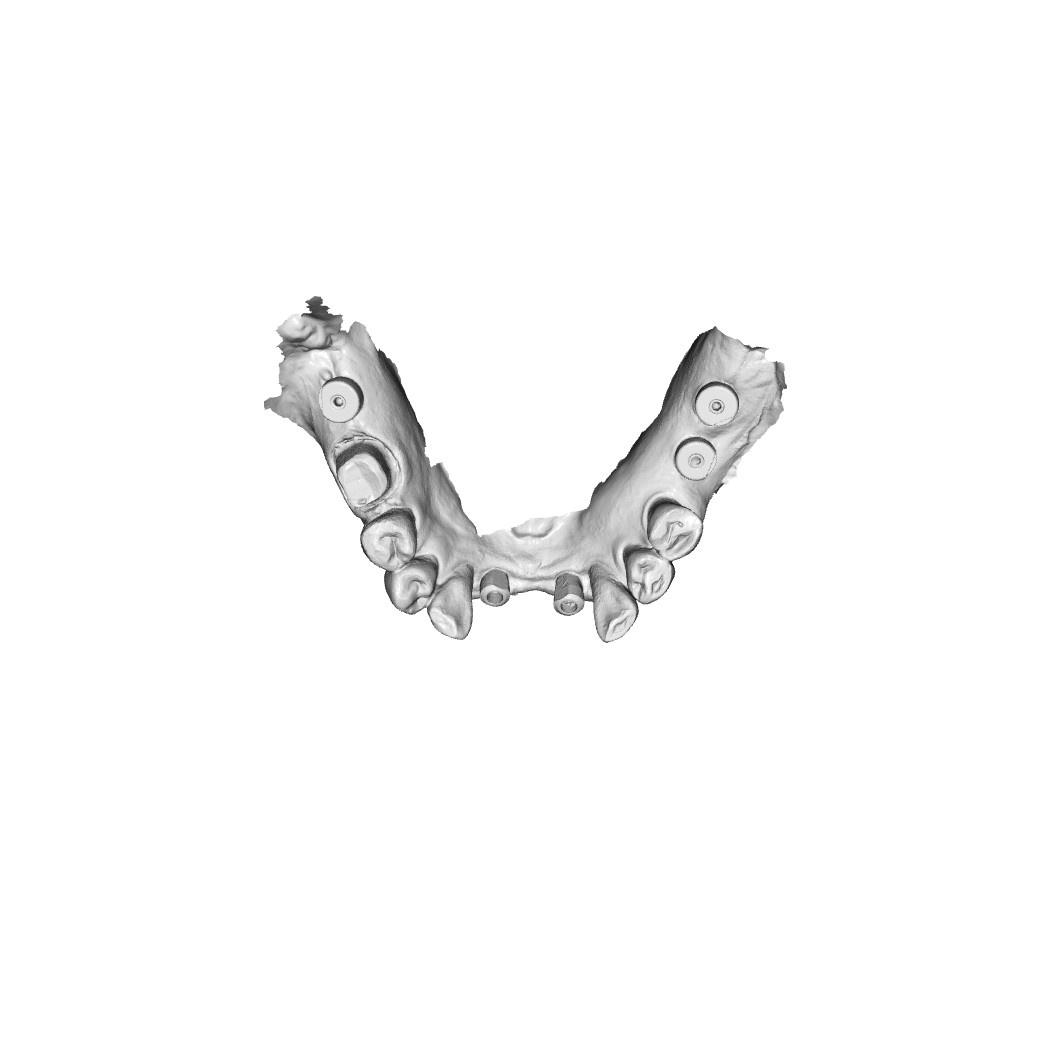canine: (587, 573, 643, 644), (428, 570, 473, 641)
crown: (332, 443, 396, 511)
implant: (316, 378, 364, 426), (696, 384, 737, 423), (675, 437, 714, 477), (552, 575, 586, 616), (480, 575, 513, 611)
premolar: (646, 499, 706, 562), (365, 512, 420, 574), (628, 544, 675, 606), (386, 559, 433, 614)
